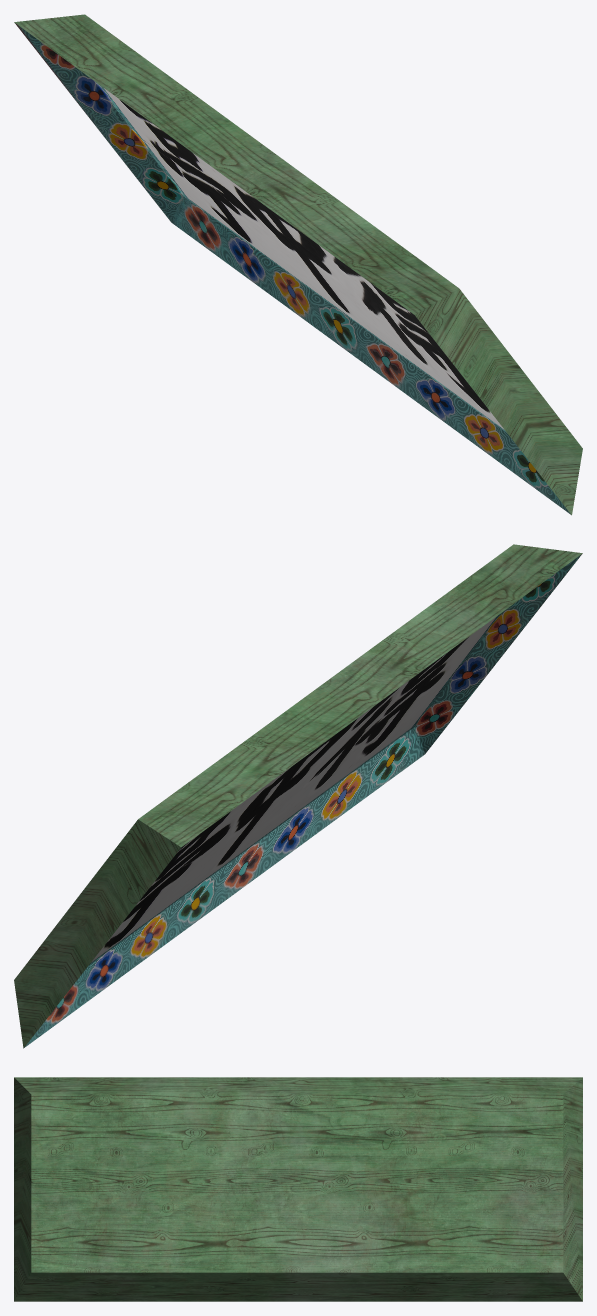
Rendered from SM_R_Sign_1.fbx.
3 renders of one model, top to bottom at view 1: azimuth 30°, elevation 25°; view 2: azimuth 150°, elevation 25°; view 3: azimuth 270°, elevation 25°, orthographic. The views are drawn at different scales.
Visible parts, largest first — view 1: SM_R_Sign_1; view 2: SM_R_Sign_1; view 3: SM_R_Sign_1.
Boxes of the visible parts, <box> form: SM_R_Sign_1: <box>14,14,582,515</box>; SM_R_Sign_1: <box>14,544,582,1048</box>; SM_R_Sign_1: <box>14,1077,582,1301</box>.
Bounding box in the file's own units: 51.38 × 197 × 65.95.
2 materials, 2 textured.
